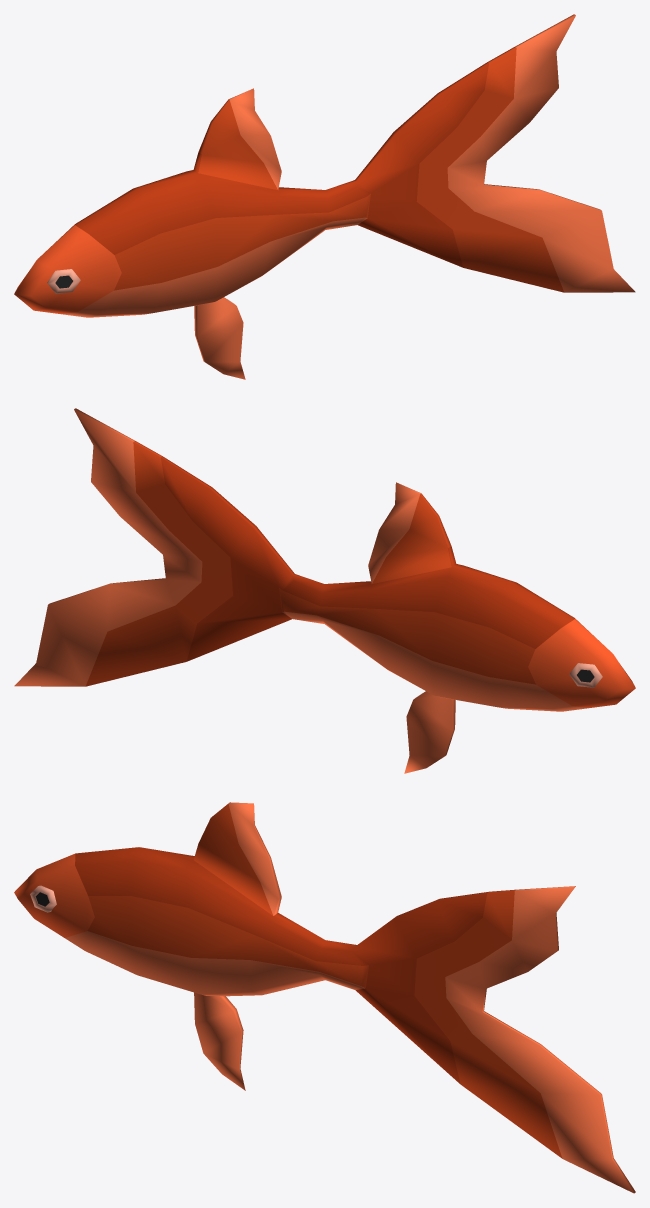
File: Fish_032.glb
The picture shows the model from 3 angles, top to bottom: view 1: azimuth 30°, elevation 25°; view 2: azimuth 150°, elevation 25°; view 3: azimuth 330°, elevation 25°; orthographic projection.
Parts seen in each view (by area): view 1: Fish_032; view 2: Fish_032; view 3: Fish_032.
Boxes of the visible parts, box(x1,y1,x2,y2) form: Fish_032: box(14, 14, 635, 379); Fish_032: box(14, 408, 635, 773); Fish_032: box(14, 802, 635, 1193).
Size of the model in its own units: 0.647 by 0.2951 by 0.0536.
1 material, 1 textured.
